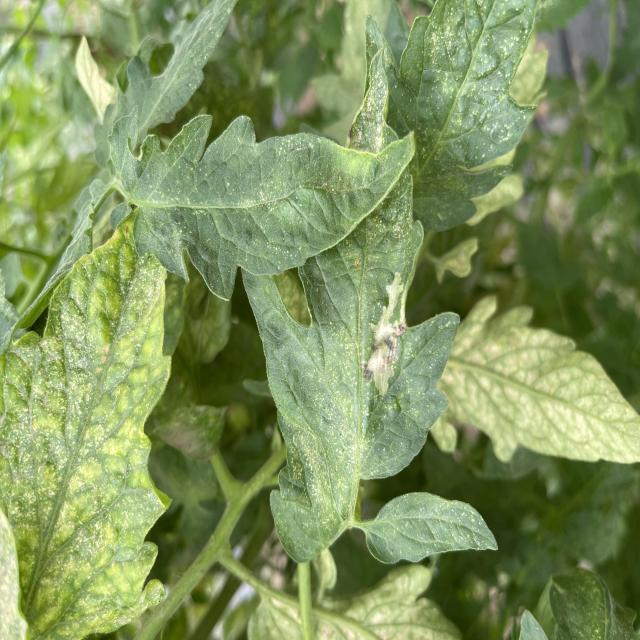Tuta absoluta: (365, 272, 406, 397)
